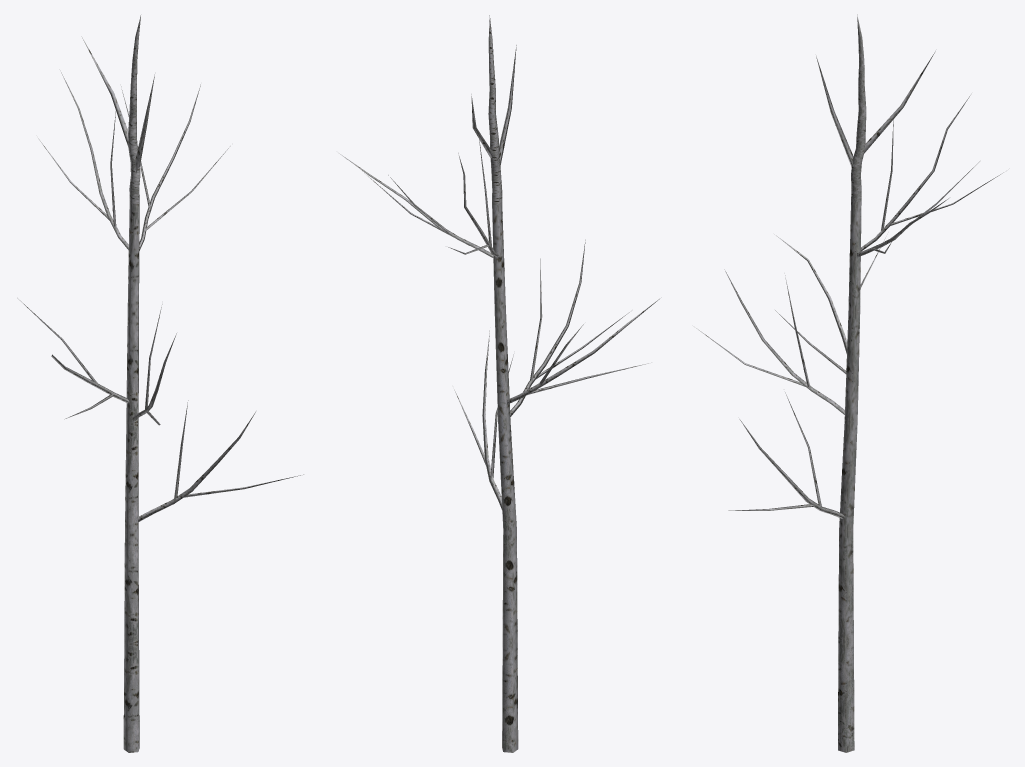
The model's file is birch-young.glb.
3 views of the same model, side by side, from view 1: azimuth 30°, elevation 25°; view 2: azimuth 150°, elevation 25°; view 3: azimuth 270°, elevation 25° (orthographic).
Parts seen in each view (by area): view 1: bark; view 2: bark; view 3: bark.
Part boxes in pixels (x1,y1,x2,y2): bark: (17,15,303,752); bark: (339,15,659,752); bark: (696,14,1003,752).
Size of the model in its own units: 2.34 by 6.78 by 2.64.
1 material, 1 textured.
